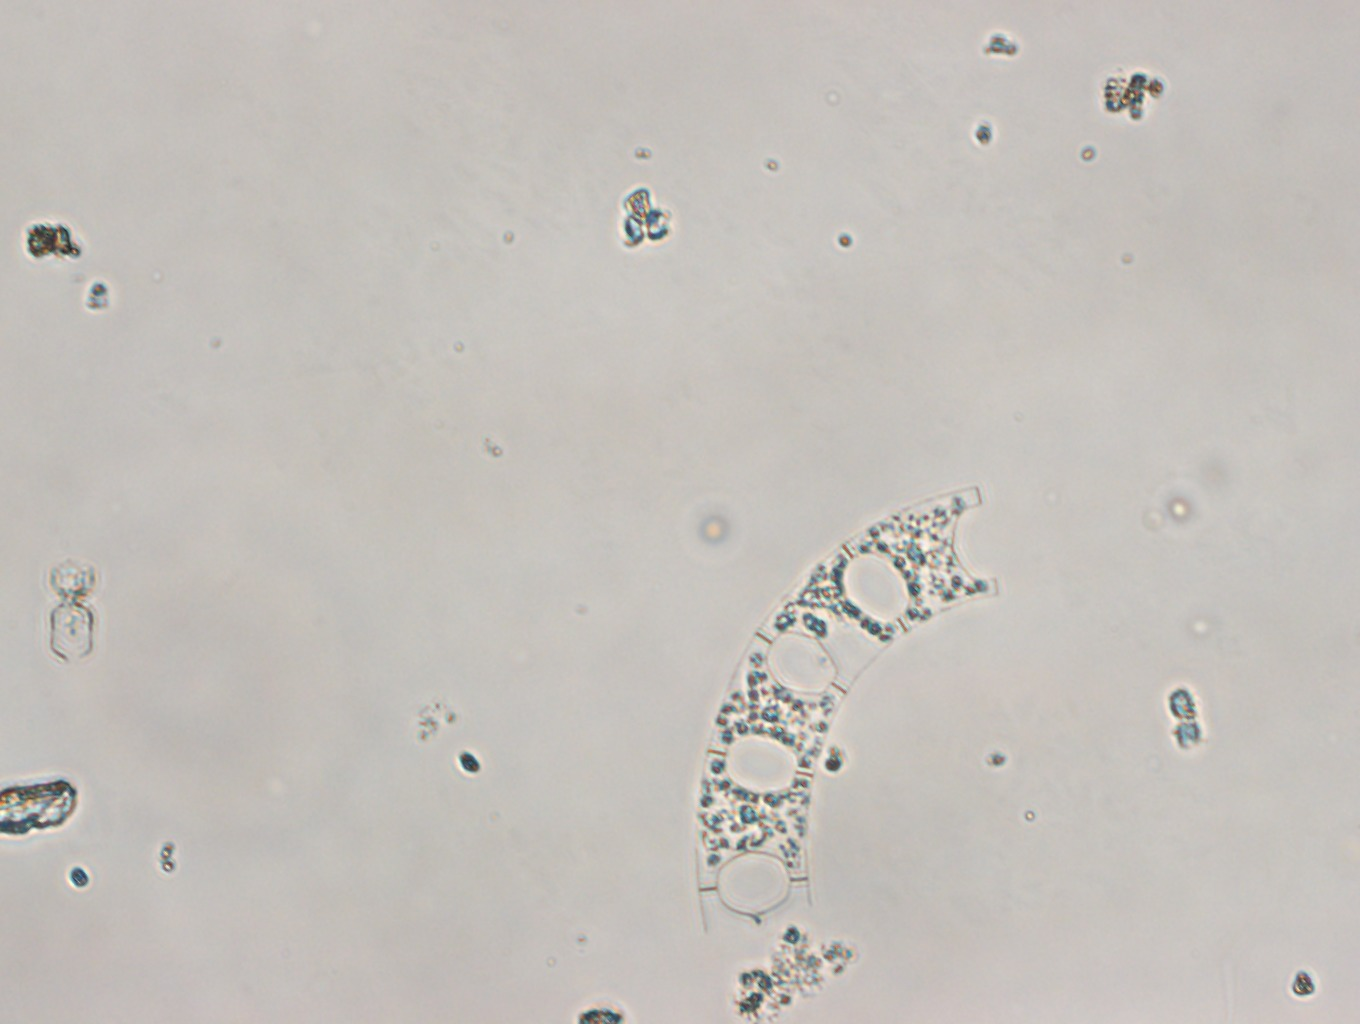eucampia: (697, 473, 994, 941)
